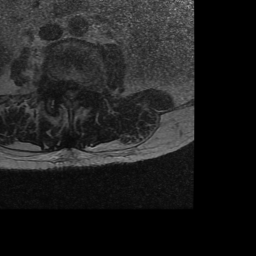CCS_severe_stenosis: (69, 84, 74, 106)
LFS_severe_stenosis: (81, 80, 87, 100)
LLS_severe_stenosis: (74, 84, 80, 101)
RFS_severe_stenosis: (57, 80, 63, 100)
RLS_severe_stenosis: (63, 82, 69, 101)
